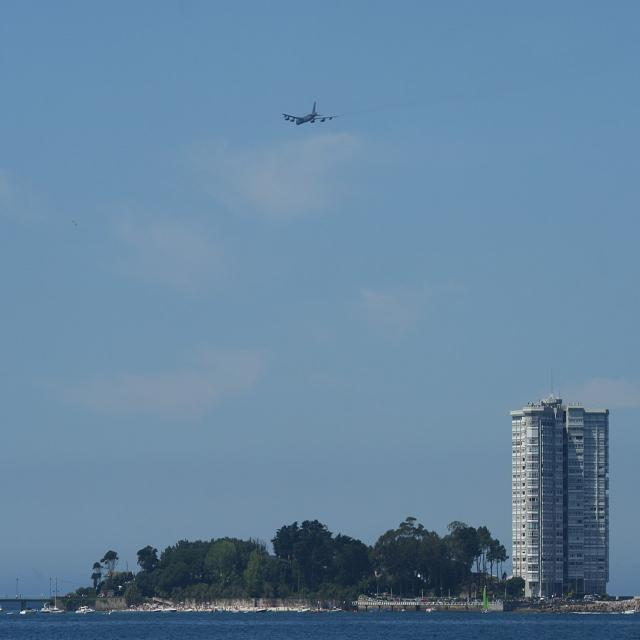MIL_Plane: (90, 101, 146, 126)
